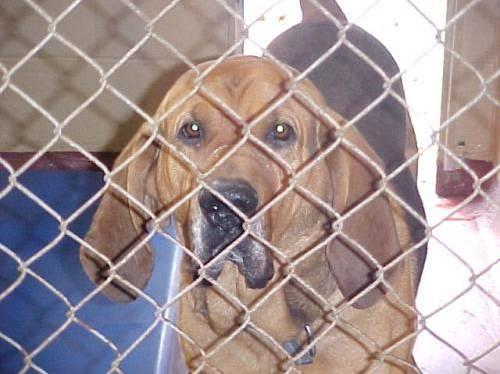dog: (80, 55, 424, 373)
